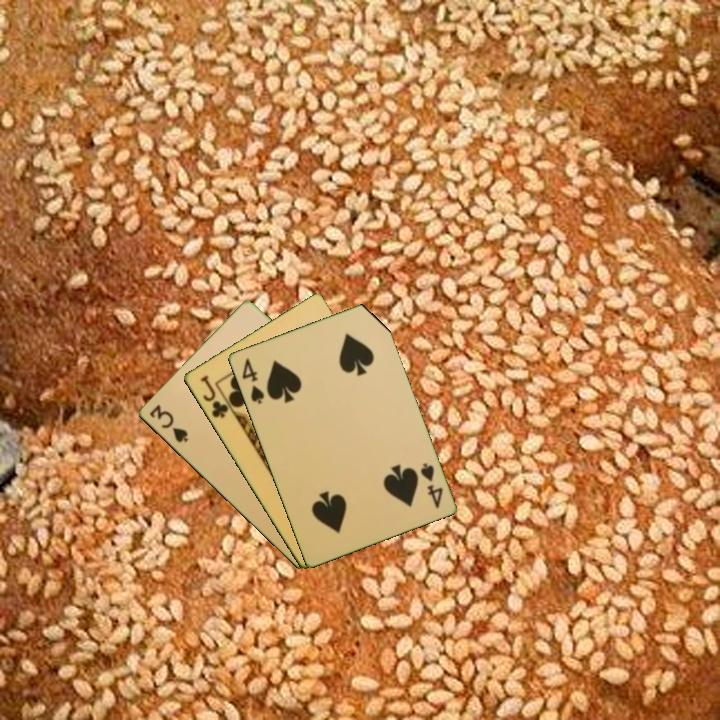3s: (145, 401, 191, 446)
4s: (238, 354, 267, 407), (416, 459, 445, 511)
Jc: (196, 372, 231, 421)
